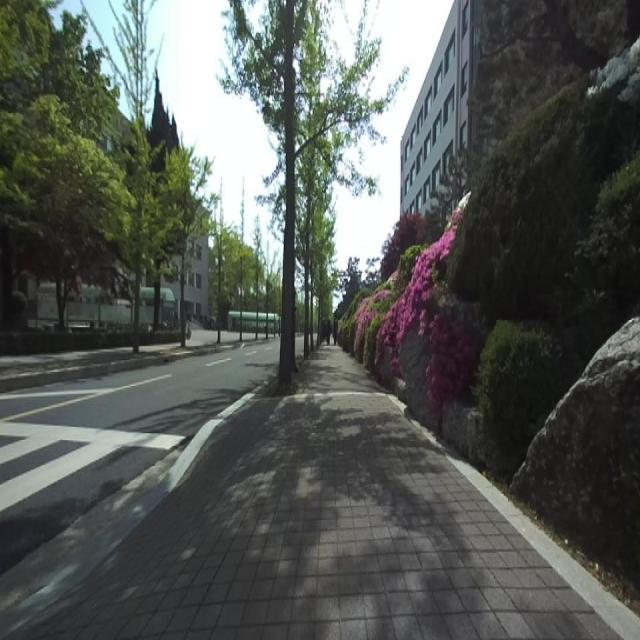sidewalk: (16, 348, 618, 639), (0, 347, 132, 372), (186, 334, 217, 348), (142, 344, 179, 353), (221, 334, 239, 343), (243, 334, 254, 338)
